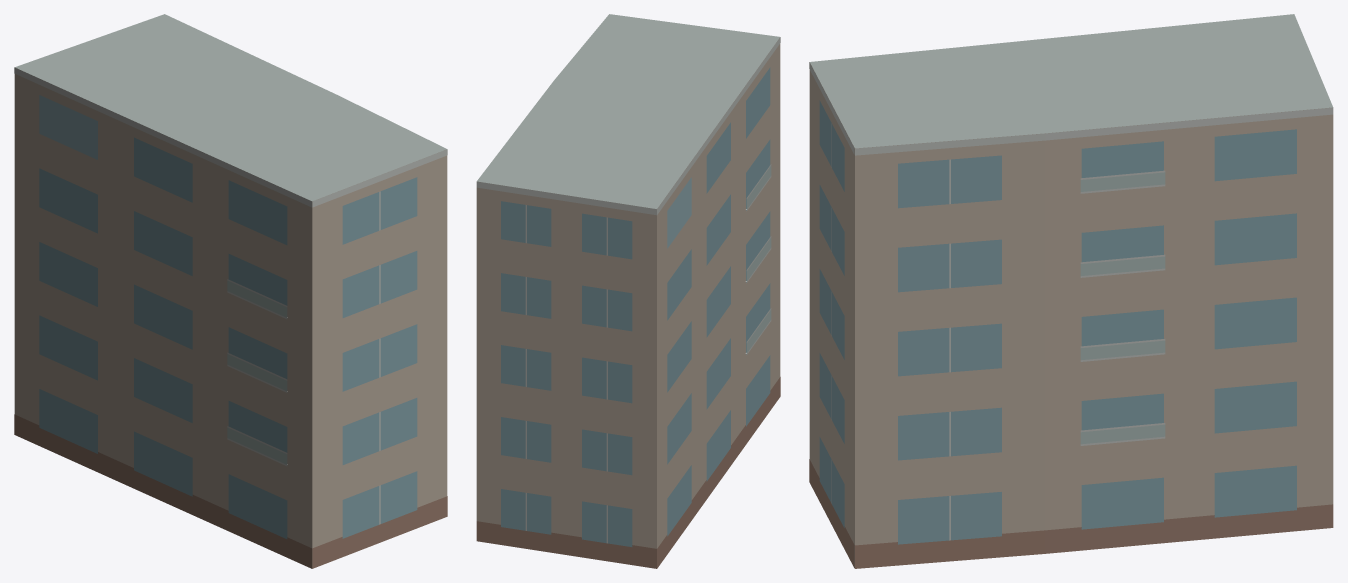
The model's file is survey-upis-32820736.glb.
3 renders of one model, left to right at view 1: azimuth 30°, elevation 25°; view 2: azimuth 150°, elevation 25°; view 3: azimuth 270°, elevation 25°, orthographic. The views are drawn at different scales.
Parts seen in each view (by area): view 1: survey-upis-32820736.tmp; view 2: survey-upis-32820736.tmp; view 3: survey-upis-32820736.tmp.
Boxes of the visible parts, x1,y1,x2,y2 form: survey-upis-32820736.tmp: (14,14,447,568); survey-upis-32820736.tmp: (476,14,780,568); survey-upis-32820736.tmp: (809,14,1333,568).
Bounding box in the file's own units: 9.82 × 14.3 × 16.16.
